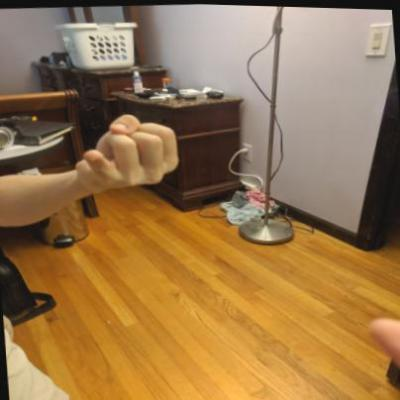hand: (69, 104, 184, 194)
